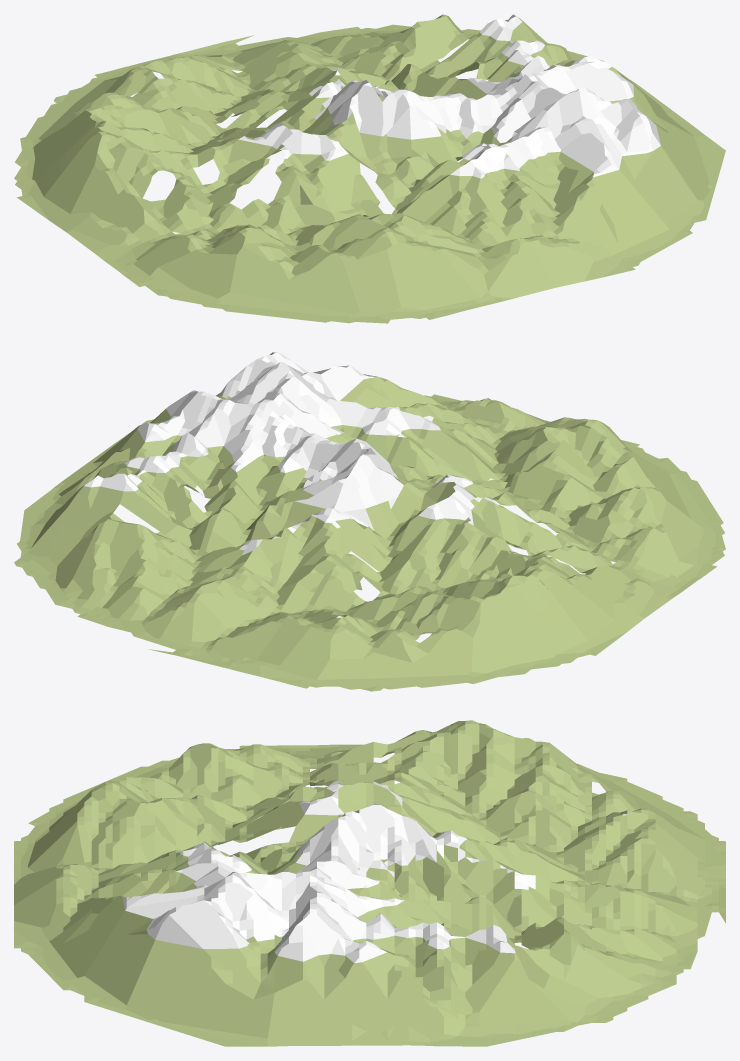
The model's file is mountain.fbx.
3 renders of one model, top to bottom at view 1: azimuth 30°, elevation 25°; view 2: azimuth 150°, elevation 25°; view 3: azimuth 270°, elevation 25°, orthographic. The views are drawn at different scales.
Visible parts, largest first — view 1: node_mountain_10944; view 2: node_mountain_10944; view 3: node_mountain_10944.
Boxes of the visible parts, x1,y1,x2,y2 form: node_mountain_10944: [14, 14, 725, 323]; node_mountain_10944: [14, 352, 725, 691]; node_mountain_10944: [14, 720, 725, 1046].
Size of the model in its own units: 22500 by 3518 by 22500.
